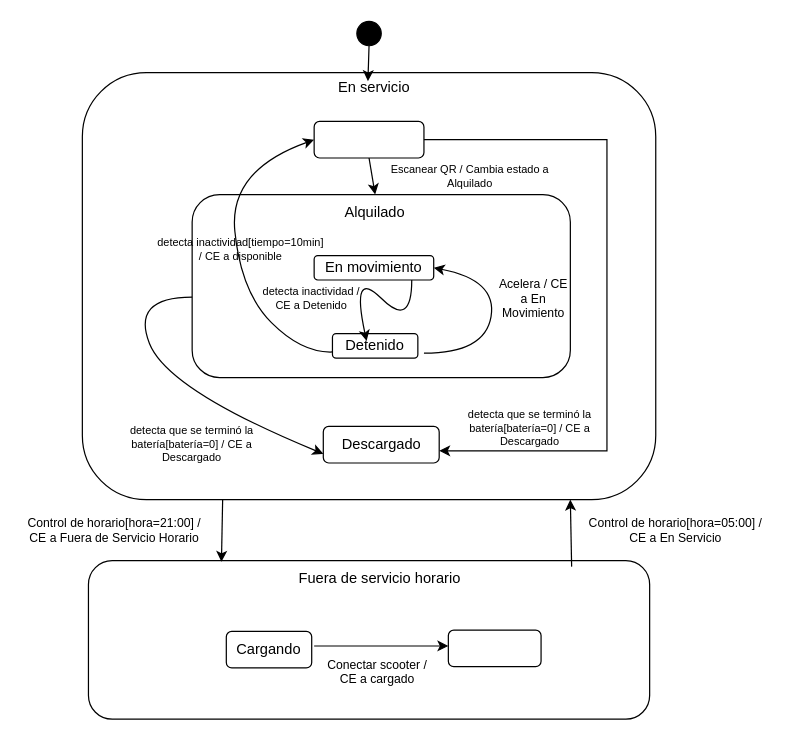
Image size: 789x741. Some labels were removed from this diagram. Each missing label, with the centre of its shape:
Cargado: [494,648]
Disponible: [368,139]
